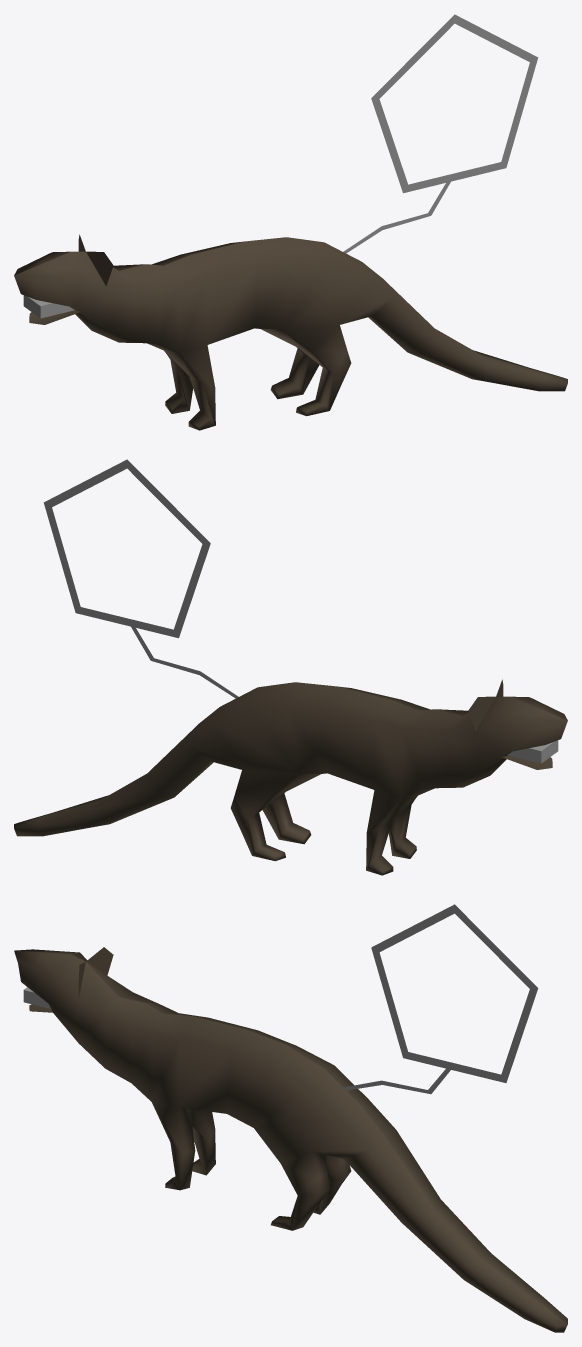
The model's file is mongooseUSB01001Rev.fbx.
The picture shows the model from 3 angles, top to bottom: view 1: azimuth 30°, elevation 25°; view 2: azimuth 150°, elevation 25°; view 3: azimuth 330°, elevation 25°; orthographic projection.
Visible parts, largest first — view 1: MongooseUSB; view 2: MongooseUSB; view 3: MongooseUSB.
Part boxes in pixels (box(x1,y1,x2,y2)): MongooseUSB: box(14, 14, 567, 430); MongooseUSB: box(14, 459, 567, 875); MongooseUSB: box(14, 904, 567, 1332).
Size of the model in its own units: 0.2259 by 0.1565 by 0.0264.
